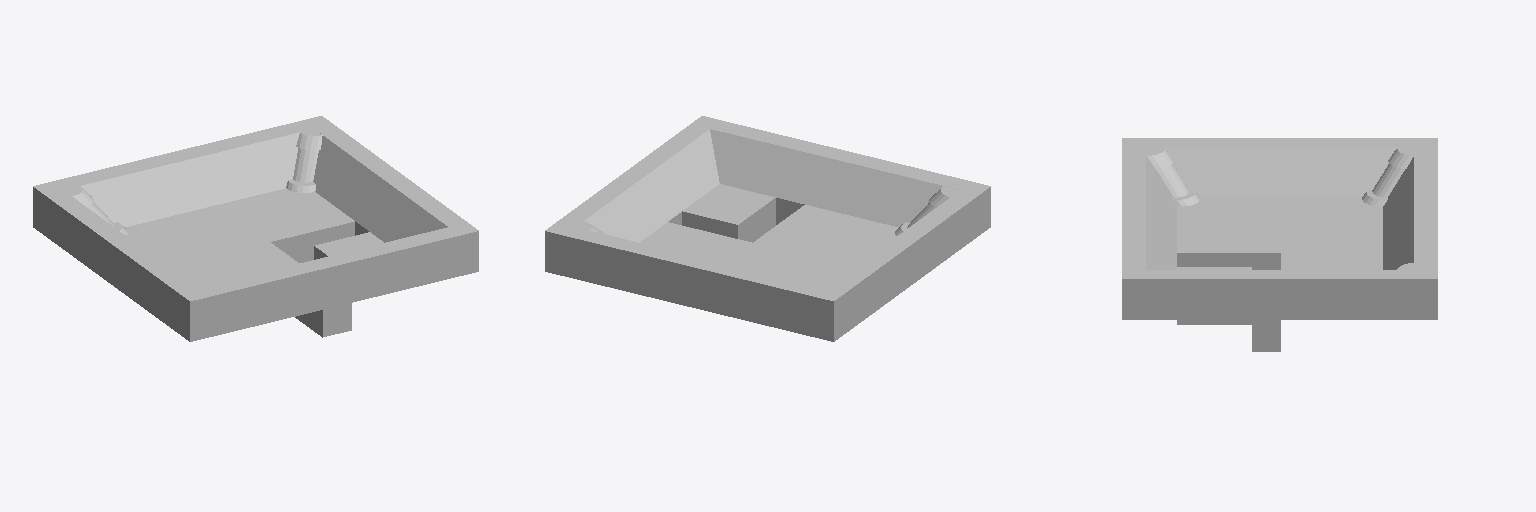
Rendered from lvl_3.obj.
3 renders of one model, left to right at view 1: azimuth 30°, elevation 25°; view 2: azimuth 150°, elevation 25°; view 3: azimuth 270°, elevation 25°, orthographic.
Visible parts, largest first — view 1: lvl3; view 2: lvl3; view 3: lvl3.
Part boxes in pixels (x1,y1,x2,y2): lvl3: (33, 116, 478, 341); lvl3: (545, 116, 990, 341); lvl3: (1122, 138, 1437, 351).
Bounding box in the file's own units: 13.36 × 4.18 × 12.6.